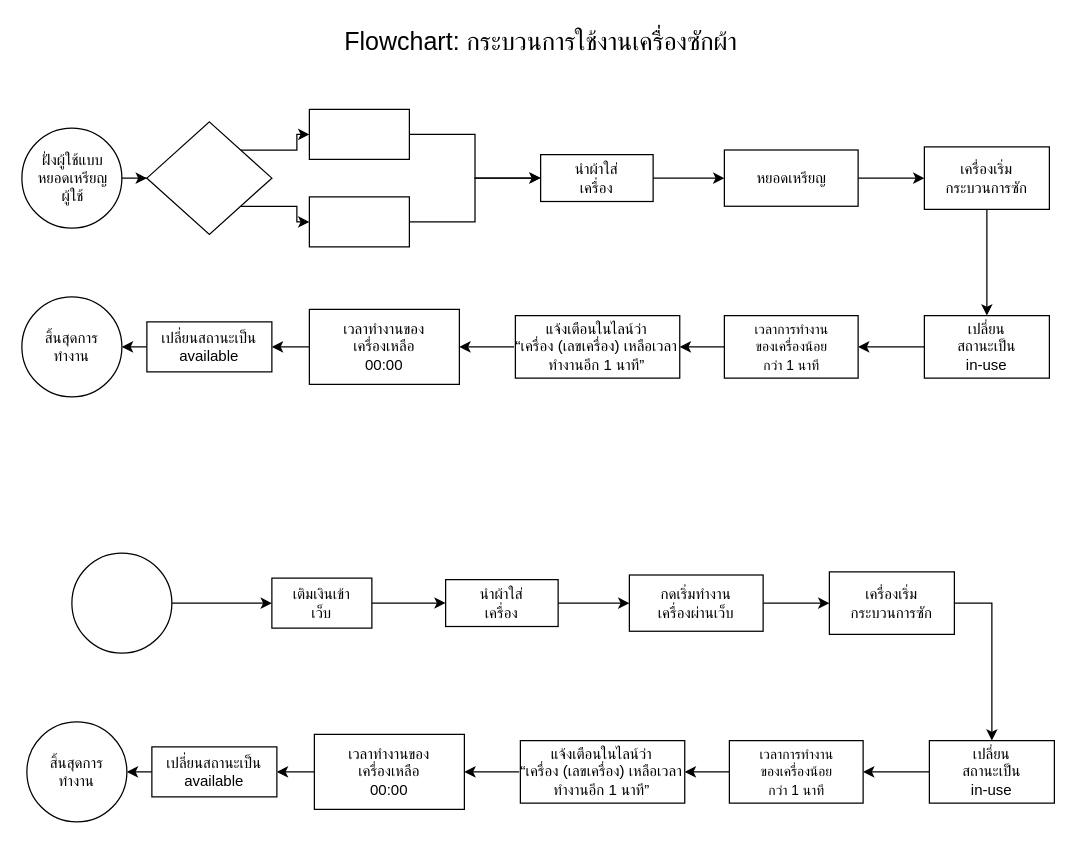
This 1076x844 diagram has some shape labels left out. The box of each missing label's shape, as (x1, y1, x2, y2) in pixels:
ฝั่งผู้ใช้ผ่านเว็บไซต์: (71, 552, 172, 653)
มีเหรียญอยู่แล้ว: (308, 196, 409, 247)
มีเหรียญอยู่แล้วหรือไม่?: (146, 121, 272, 234)
แลกเหรียญที่ร้าน: (308, 108, 409, 159)
